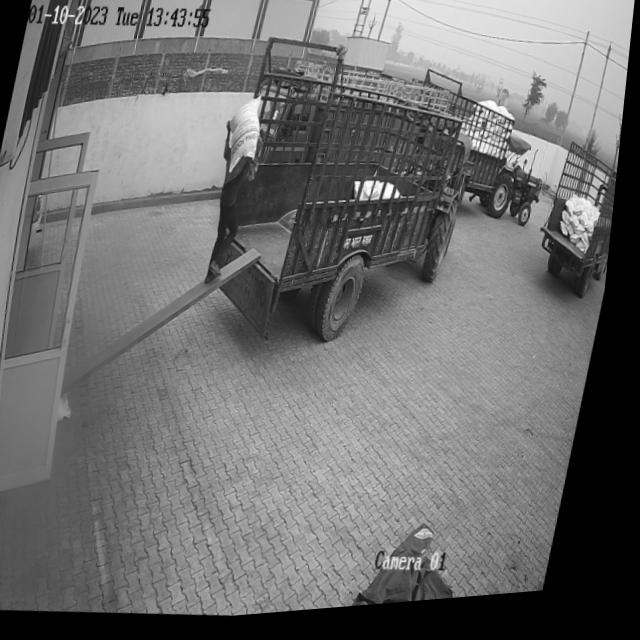sack: (223, 96, 270, 180)
